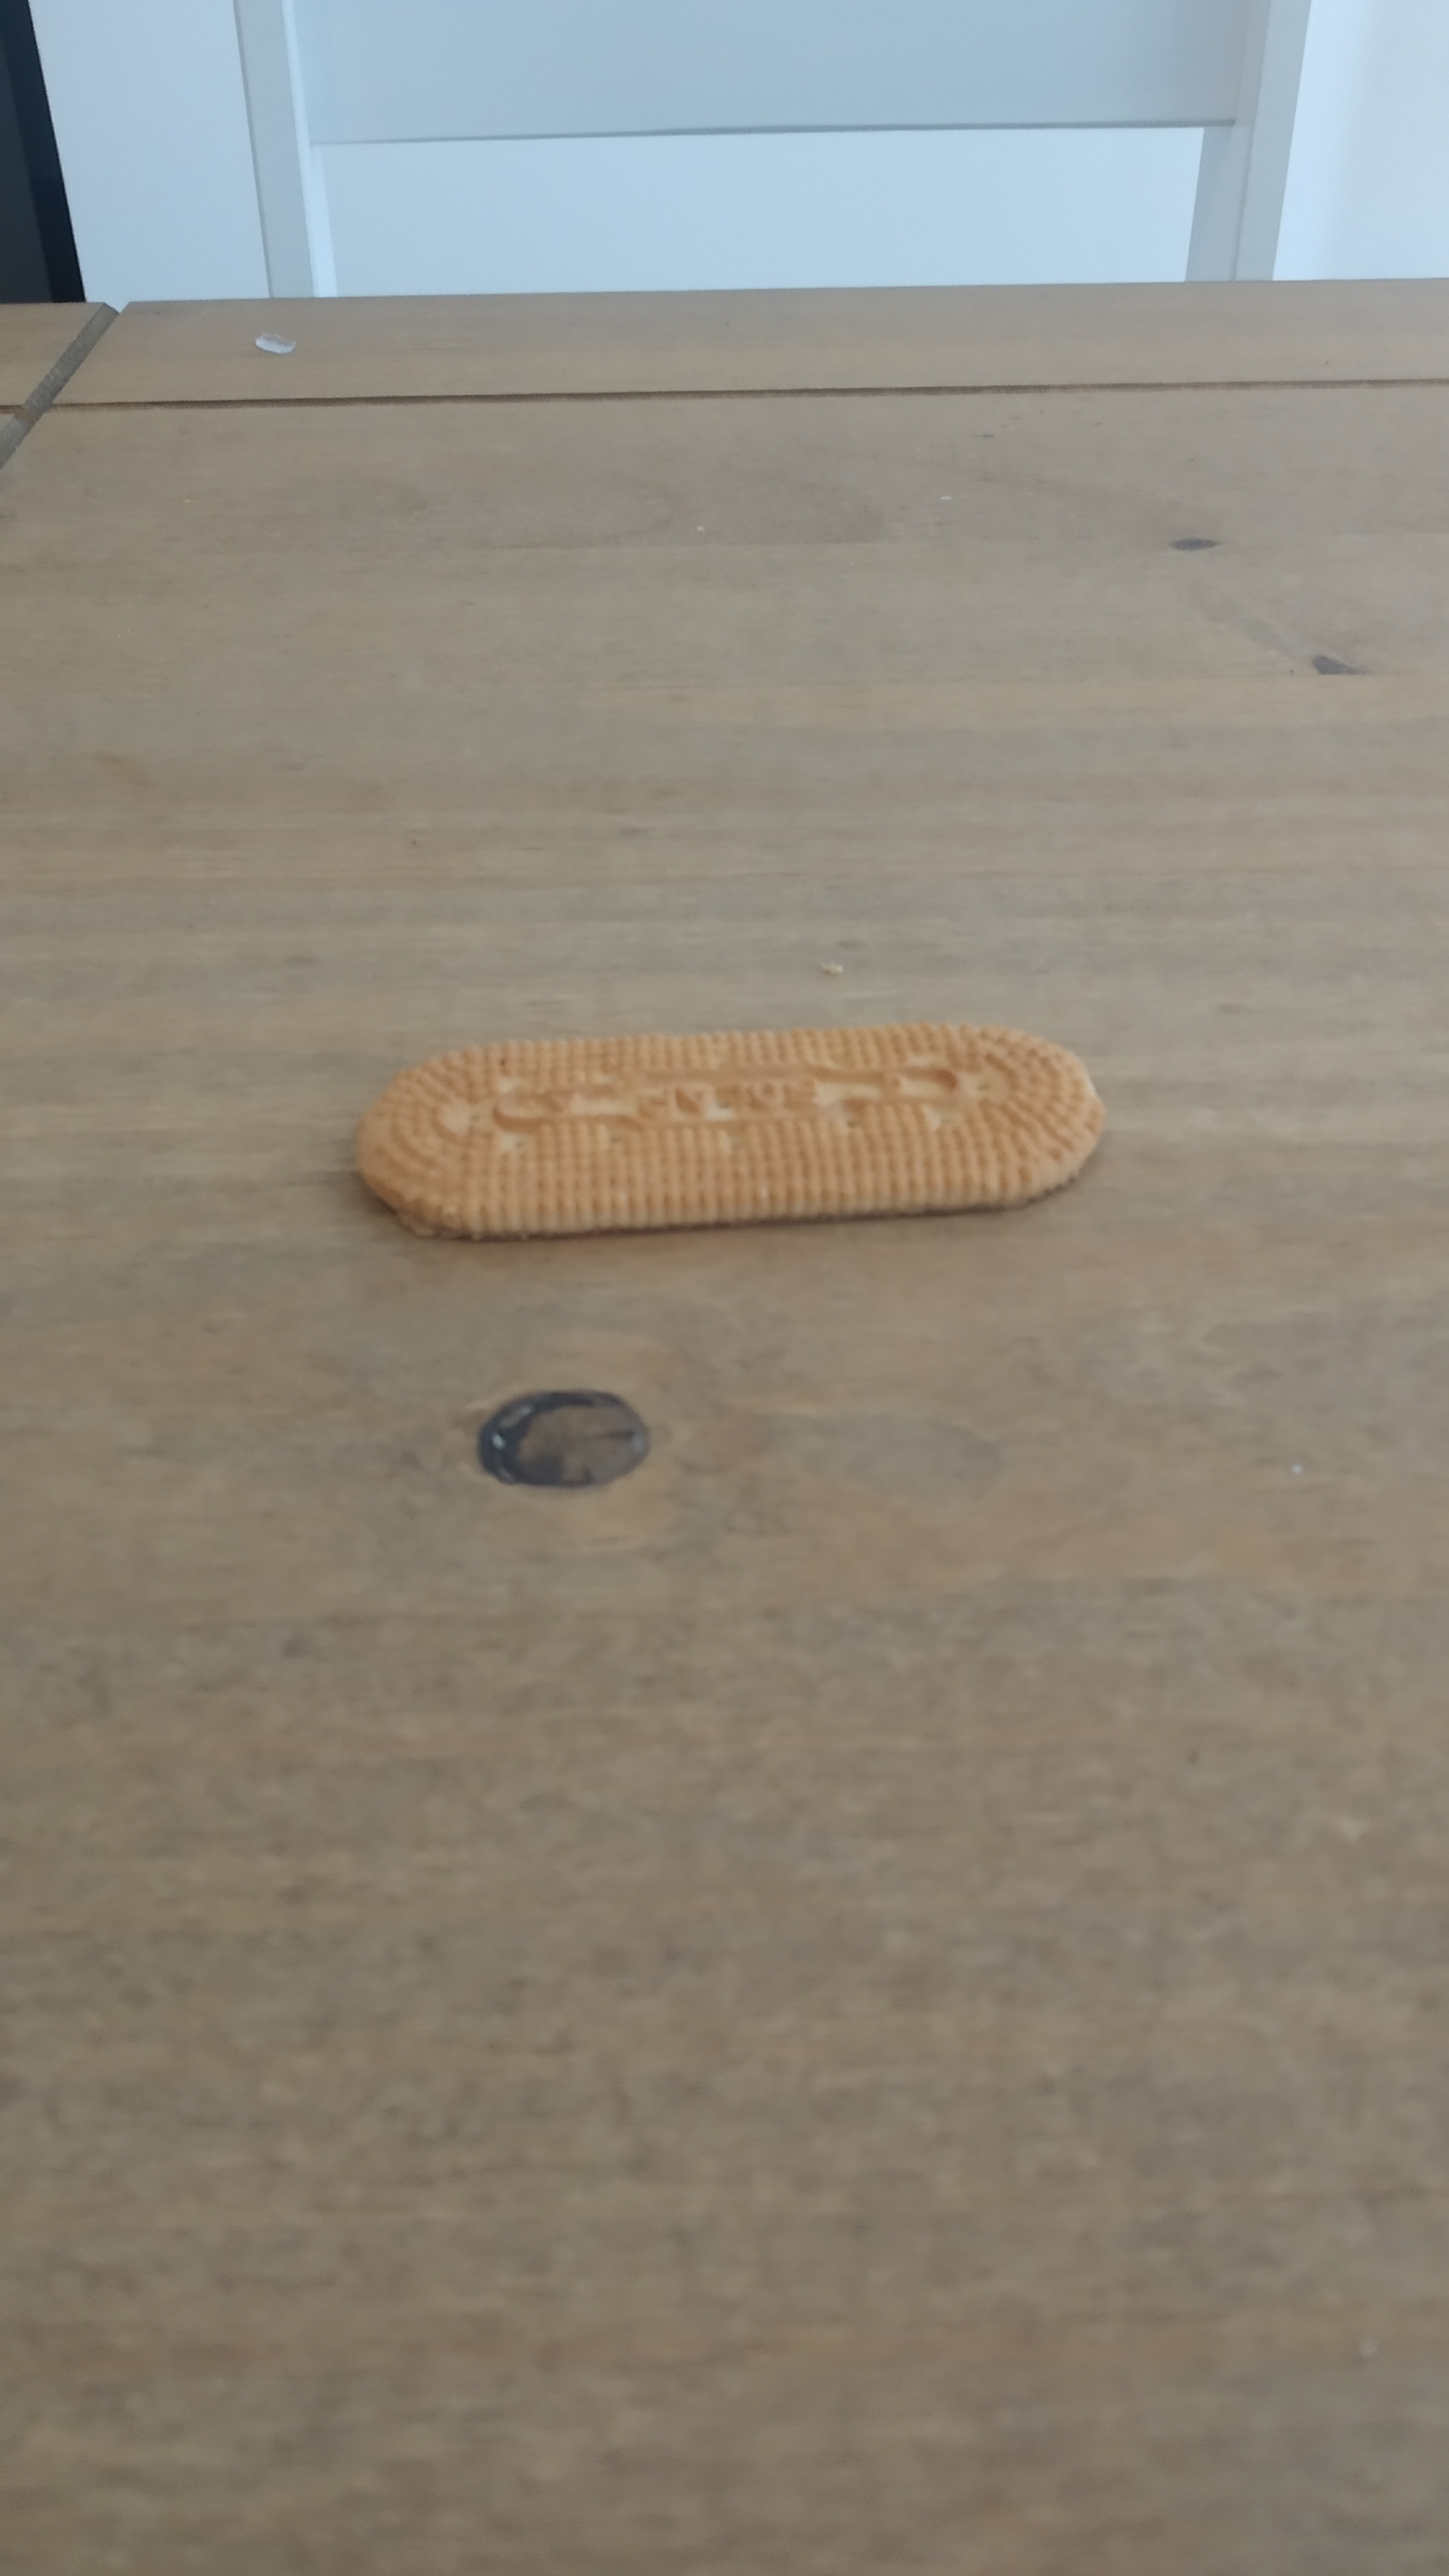solar: (356, 1021, 1106, 1246)
